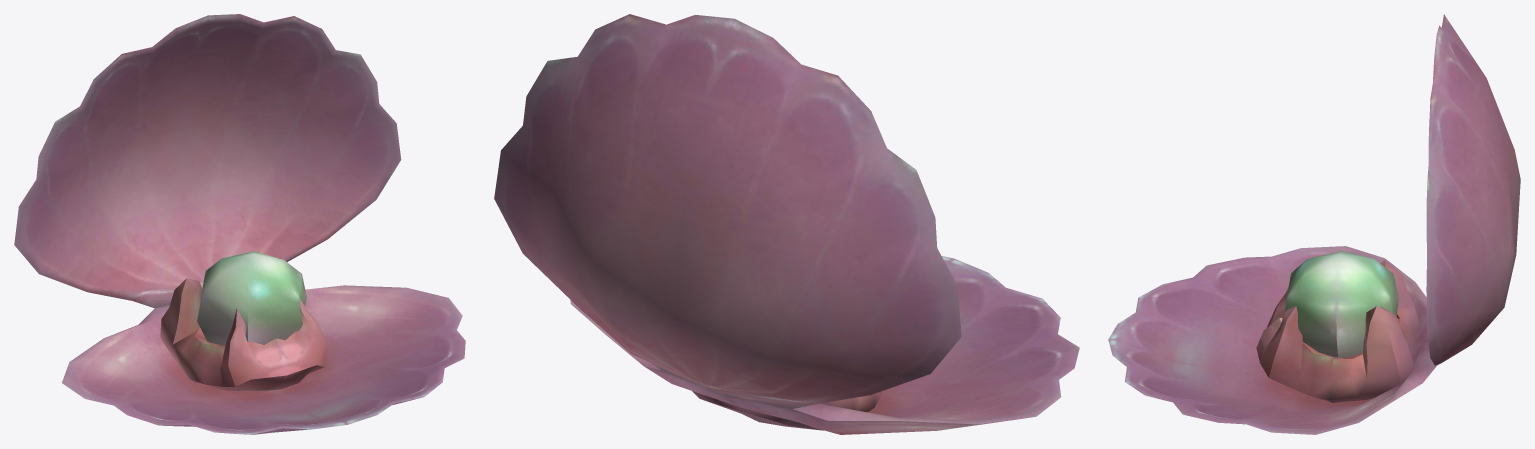
Rendered from map_113_wujian_2.fbx.
3 views of the same model, side by side, from view 1: azimuth 30°, elevation 25°; view 2: azimuth 150°, elevation 25°; view 3: azimuth 270°, elevation 25° (orthographic). The views are drawn at different scales.
Parts seen in each view (by area): view 1: map_113_wujian_2; view 2: map_113_wujian_2; view 3: map_113_wujian_2.
Boxes of the visible parts, bbox=[...] form: map_113_wujian_2: bbox=[14, 14, 465, 434]; map_113_wujian_2: bbox=[494, 14, 1079, 434]; map_113_wujian_2: bbox=[1108, 14, 1520, 434].
Size of the model in its own units: 1.02 by 0.8559 by 0.9072.
